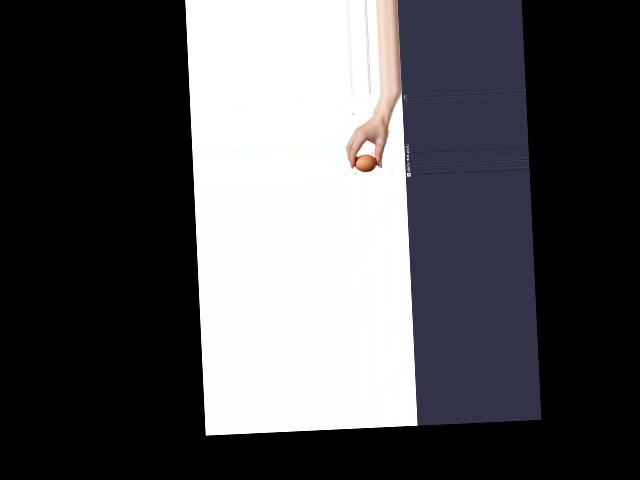egg: (354, 152, 377, 172)
